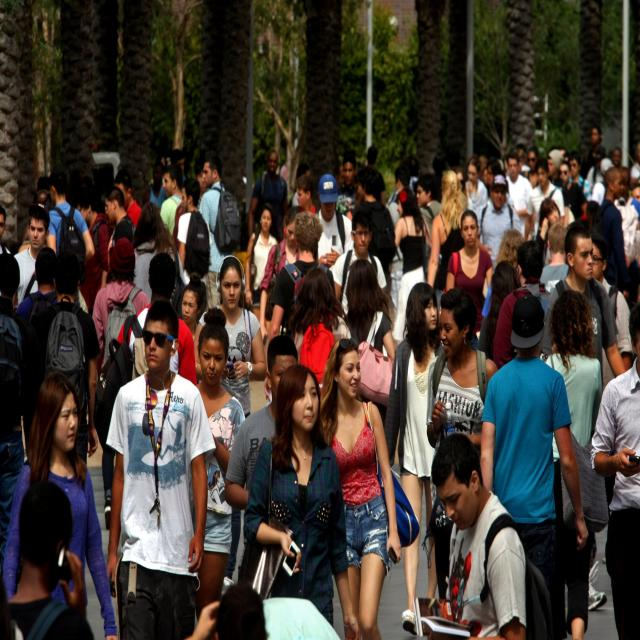body: (100, 292, 219, 640), (236, 360, 364, 640), (0, 362, 121, 640), (542, 217, 626, 614), (480, 292, 590, 594), (420, 432, 554, 640), (317, 335, 402, 640), (192, 252, 269, 588), (539, 286, 610, 640), (426, 287, 499, 601), (94, 252, 197, 462), (383, 281, 440, 637), (90, 235, 152, 532), (194, 304, 248, 639), (589, 301, 640, 640), (262, 210, 340, 406), (34, 249, 100, 468), (223, 333, 300, 510), (341, 256, 396, 431), (424, 168, 470, 356), (493, 238, 556, 372), (0, 252, 26, 574), (290, 264, 351, 391), (445, 209, 494, 352), (590, 232, 633, 388), (330, 208, 388, 323), (133, 200, 188, 320), (259, 204, 305, 347), (391, 186, 432, 346), (200, 152, 240, 309), (16, 245, 58, 383), (552, 127, 613, 216), (473, 174, 522, 278), (593, 165, 629, 302), (352, 165, 398, 272), (74, 189, 112, 318), (12, 202, 56, 309), (478, 259, 522, 362), (46, 170, 96, 260), (176, 176, 212, 298), (244, 203, 280, 324), (520, 156, 566, 244), (315, 172, 355, 271), (247, 149, 288, 242), (612, 140, 640, 276), (104, 185, 137, 284), (137, 146, 186, 210), (278, 154, 320, 222), (19, 173, 52, 246), (506, 152, 534, 238), (481, 142, 538, 181), (464, 155, 488, 242), (180, 272, 208, 344), (356, 144, 387, 208), (333, 151, 361, 221), (112, 168, 143, 228), (159, 163, 184, 237), (388, 151, 424, 202), (415, 173, 442, 238), (0, 202, 12, 298), (194, 159, 210, 213), (384, 205, 400, 228)
